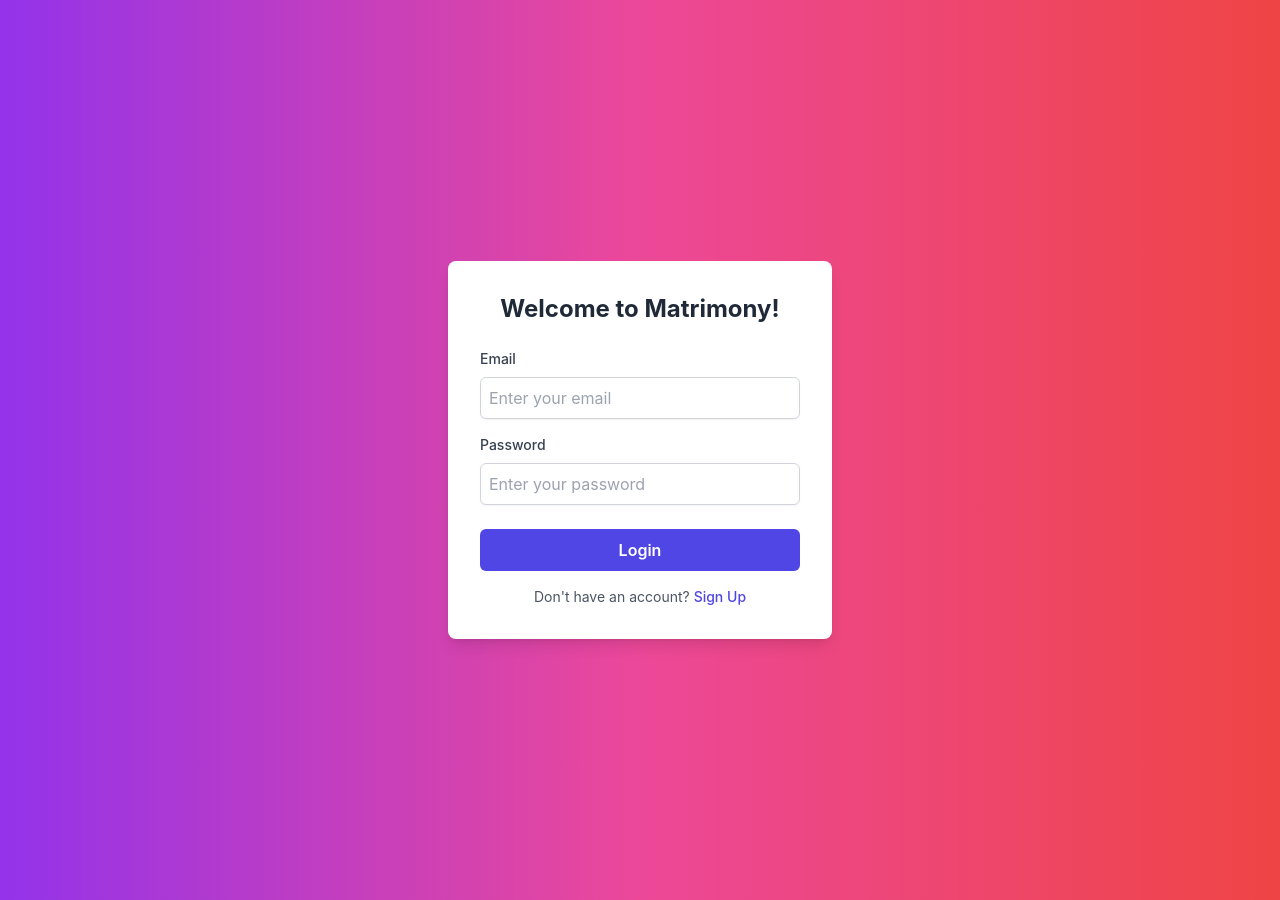
Scenario: LoginPage › shows an error message on failed login
The image size is (1280, 900).
Type "wrong@example.com" into the field labelled "Email" at (640, 398), box [480, 377, 800, 419]
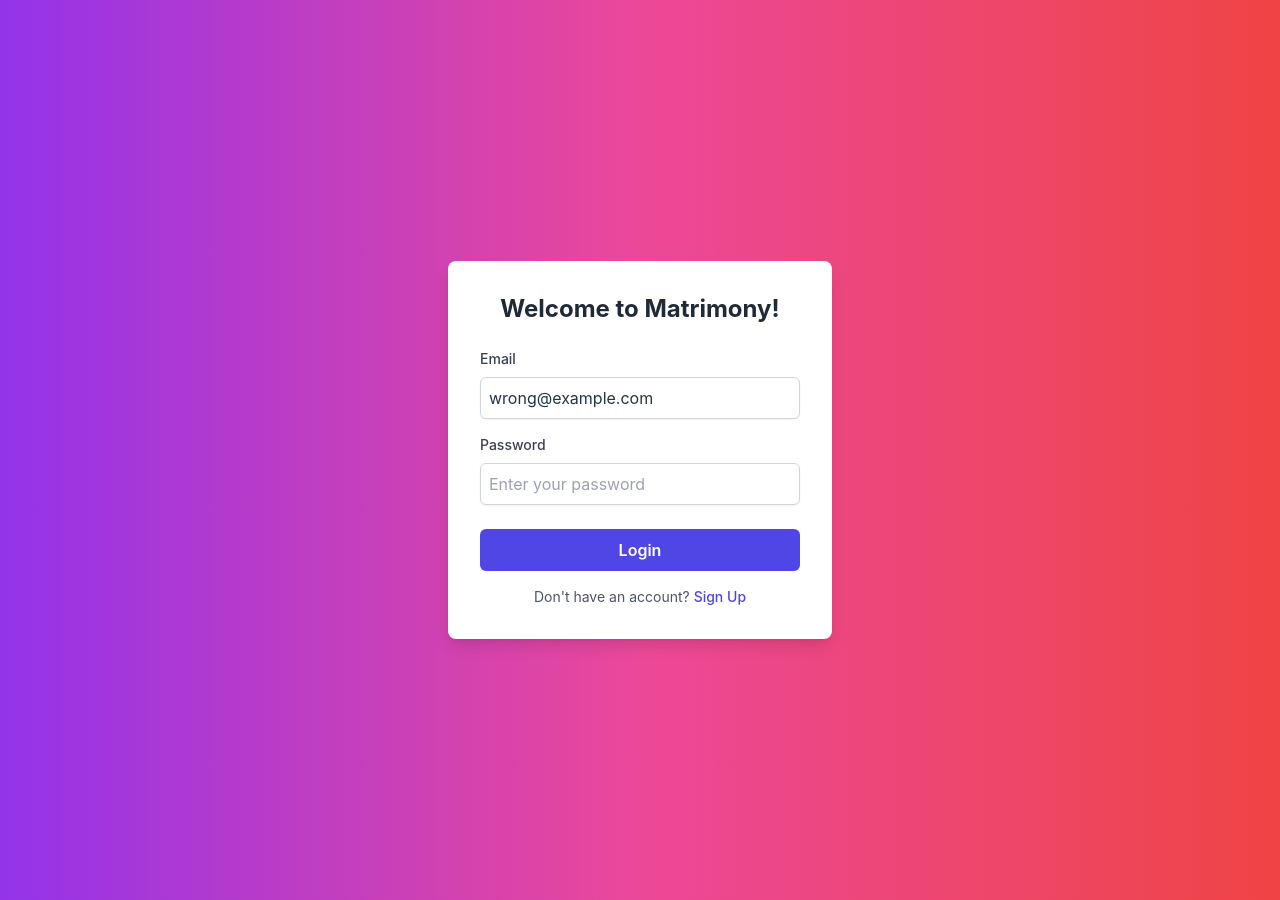
Type "wrongpassword" into the password field labelled "Password" at (640, 484), box [480, 463, 800, 505]
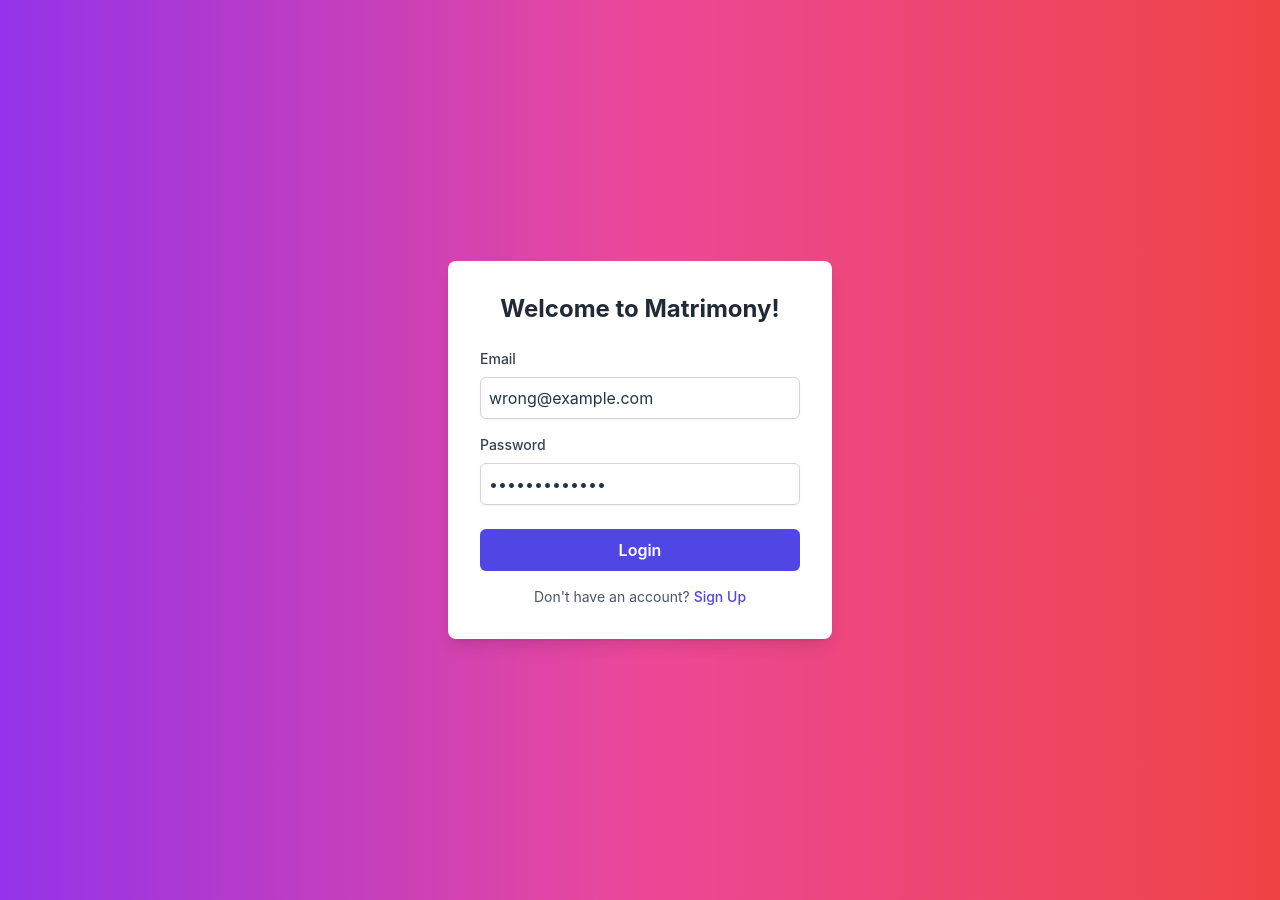
Click the button "Login" at (640, 550), box [480, 529, 800, 571]
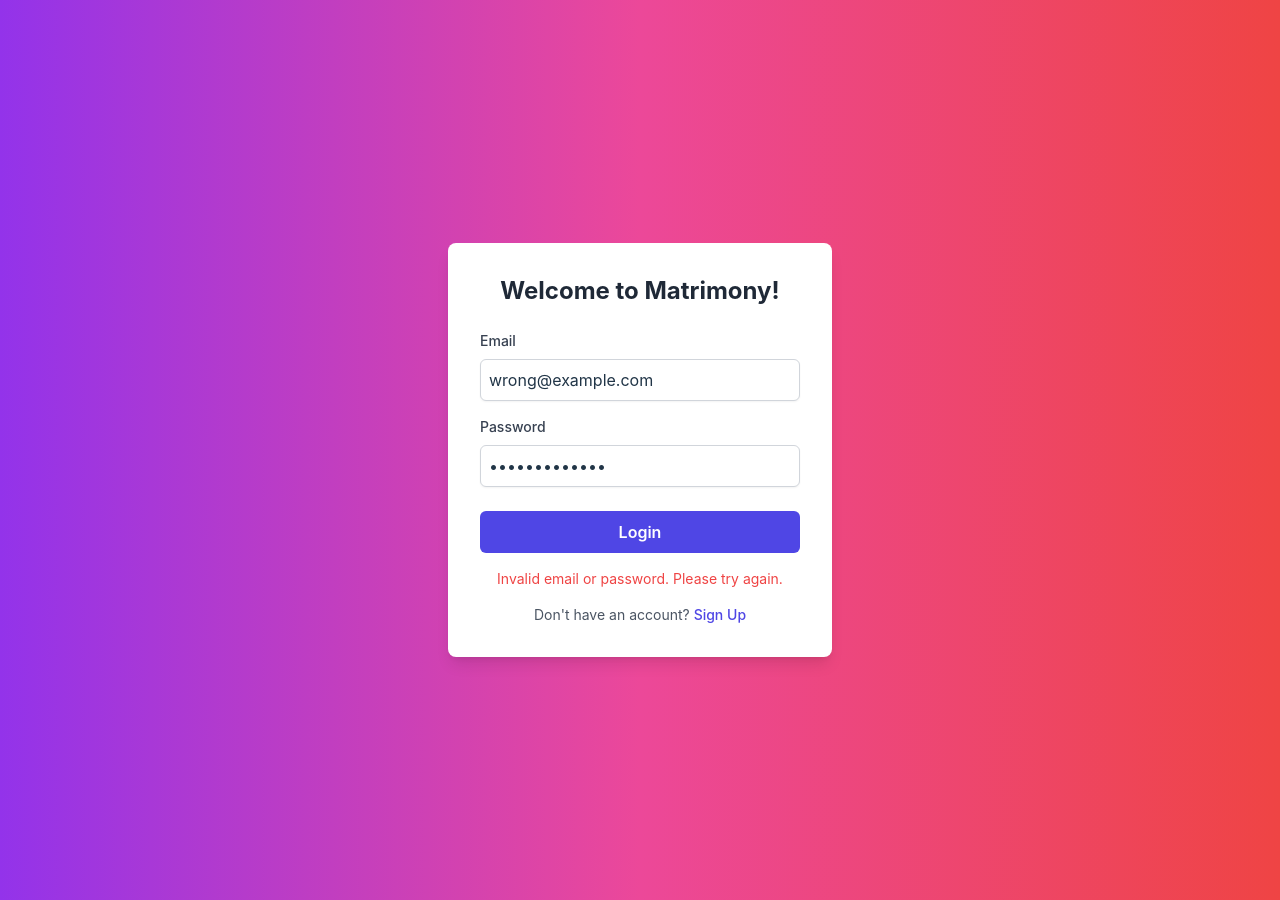
Now the text "Invalid email or password. Please try again." is shown, box [480, 569, 800, 589]
